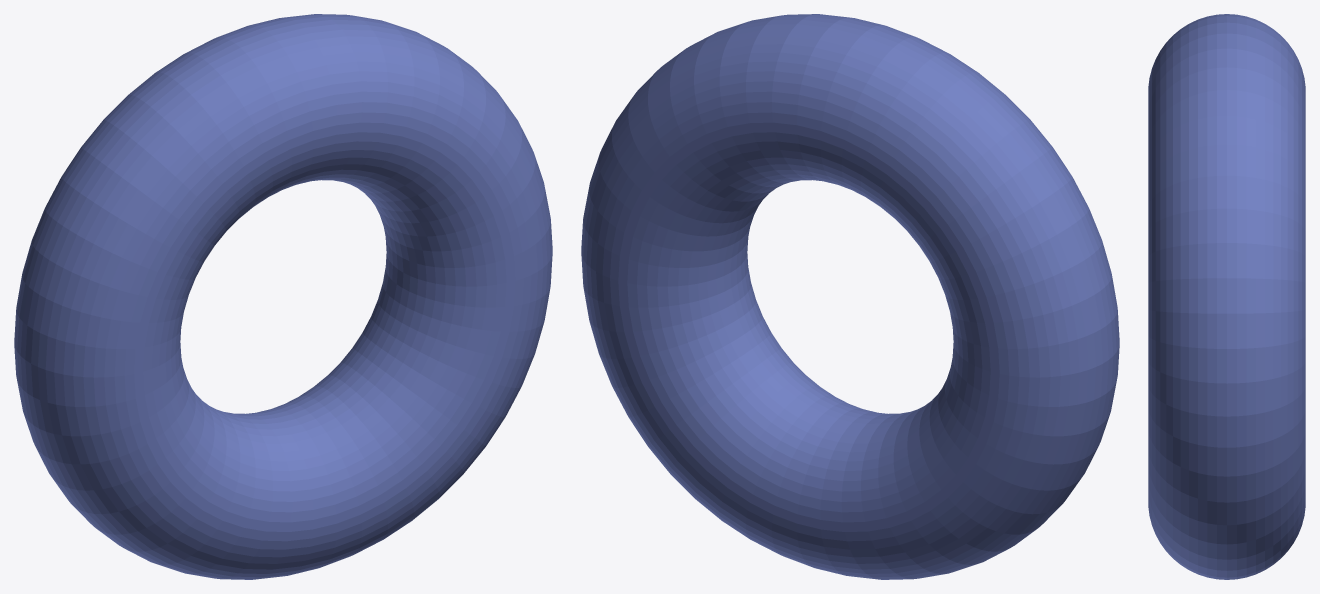
3 views of the same model, side by side, from view 1: azimuth 30°, elevation 25°; view 2: azimuth 150°, elevation 25°; view 3: azimuth 270°, elevation 25° (orthographic). The views are drawn at different scales.
Visible parts, largest first — view 1: world; view 2: world; view 3: world.
Part boxes in pixels (x1,y1,x2,y2): world: (14, 14, 552, 579); world: (581, 14, 1119, 579); world: (1148, 14, 1305, 579).
Bounding box in the file's own units: 13.87 × 13.84 × 3.86.
